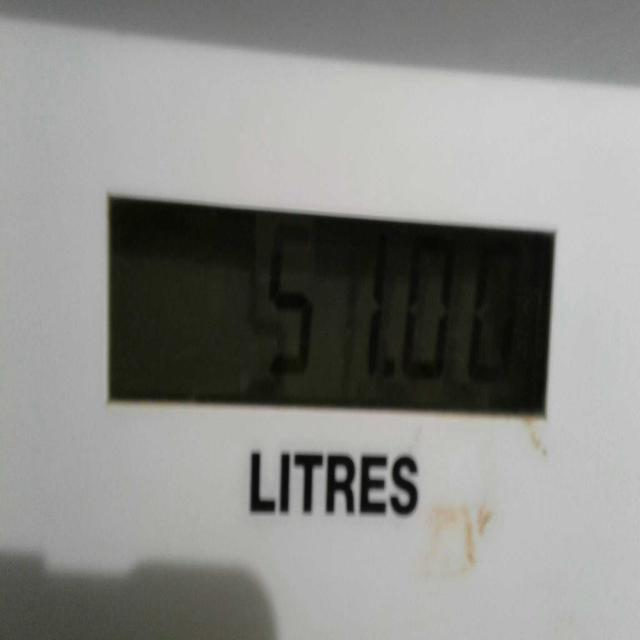.: (383, 346, 406, 402)
0: (469, 211, 538, 386), (399, 228, 459, 381)
1: (347, 228, 397, 372)
5: (261, 219, 322, 401)
